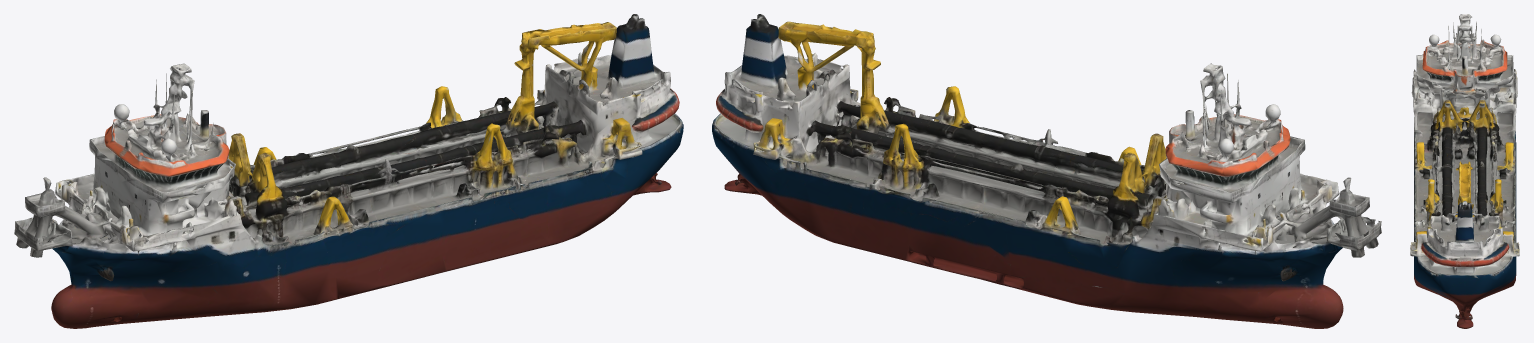
The model's file is dredger.glb.
3 views of the same model, side by side, from view 1: azimuth 30°, elevation 25°; view 2: azimuth 150°, elevation 25°; view 3: azimuth 270°, elevation 25° (orthographic). The views are drawn at different scales.
Size of the model in its own units: 1.9 by 0.6706 by 0.4249.
Materials: 1 (1 with a texture image).
